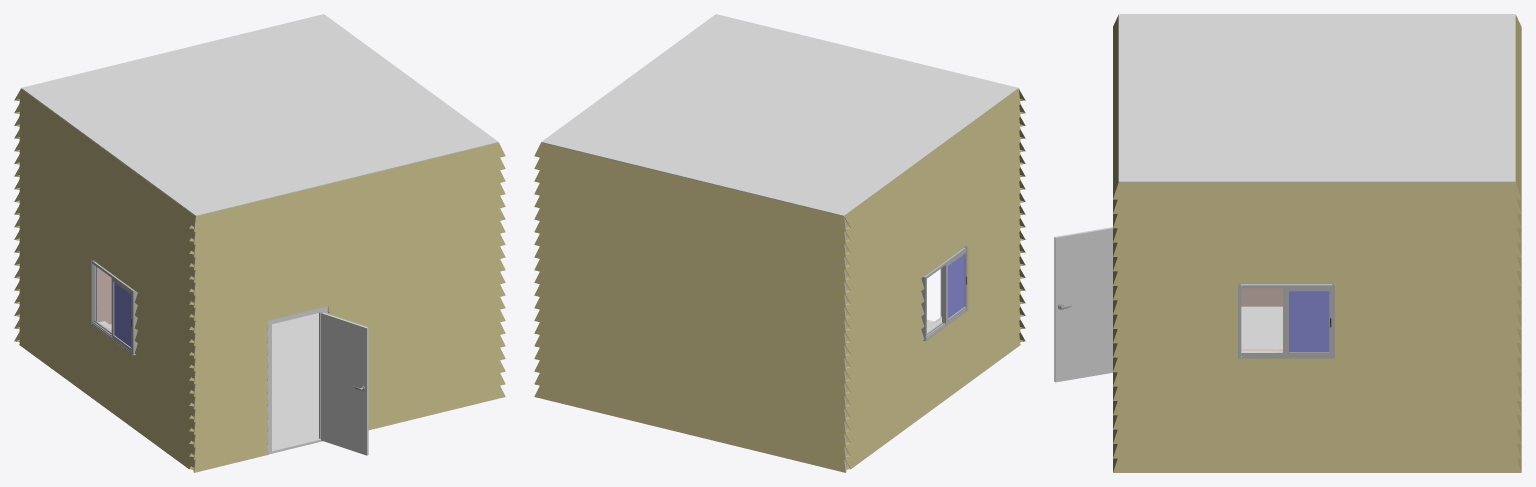
File: House.fbx
The picture shows the model from 3 angles, left to right: view 1: azimuth 30°, elevation 25°; view 2: azimuth 150°, elevation 25°; view 3: azimuth 270°, elevation 25°; orthographic projection. The views are drawn at different scales.
Parts seen in each view (by area): view 1: Wall_cover, Ceiling, Door, Floor, Window.R, Room, WindowFrame, DoorFrame; view 2: Wall_cover, Ceiling, Window.R, WindowFrame; view 3: Wall_cover, Ceiling, Door, Window.R.001, Floor, WindowFrame.001, Room.
Part boxes in pixels (box(x1,y1,x2,y2)): Wall_cover: box(14, 89, 505, 472); Ceiling: box(21, 14, 498, 216); Door: box(321, 312, 368, 455); Floor: box(110, 313, 322, 470); Window.R: box(111, 278, 131, 351); Room: box(97, 144, 490, 467); WindowFrame: box(90, 260, 137, 355); DoorFrame: box(267, 306, 327, 452); Wall_cover: box(534, 89, 1025, 472); Ceiling: box(541, 14, 1018, 216); Window.R: box(944, 250, 966, 324); WindowFrame: box(921, 246, 968, 341); Wall_cover: box(1113, 15, 1521, 472); Ceiling: box(1118, 14, 1515, 182); Door: box(1054, 227, 1112, 382); Window.R.001: box(1284, 288, 1331, 355); Floor: box(1241, 306, 1282, 349); WindowFrame.001: box(1238, 283, 1334, 358); Room: box(1241, 288, 1282, 352).
Size of the model in its own units: 524 by 405 by 589.
